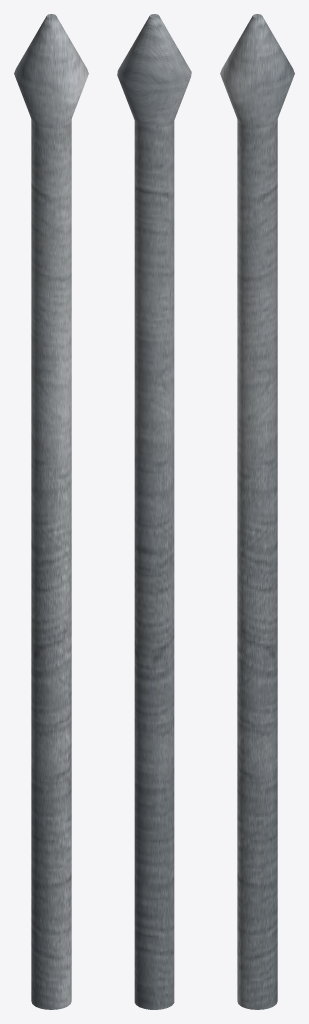
Rendered from asta.obj.
3 renders of one model, left to right at view 1: azimuth 90°, elevation 25°; view 2: azimuth 150°, elevation 25°; view 3: azimuth 270°, elevation 25°, orthographic.
Parts seen in each view (by area): view 1: polySurface2 pCube2; view 2: polySurface2 pCube2; view 3: polySurface2 pCube2.
Part boxes in pixels (x1=…): polySurface2 pCube2: x1=14, y1=14, x2=88, y2=1009; polySurface2 pCube2: x1=117, y1=14, x2=191, y2=1009; polySurface2 pCube2: x1=220, y1=14, x2=294, y2=1009.
Bounding box in the file's own units: 0.3936 × 5.71 × 0.3936.
1 material, 1 textured.
